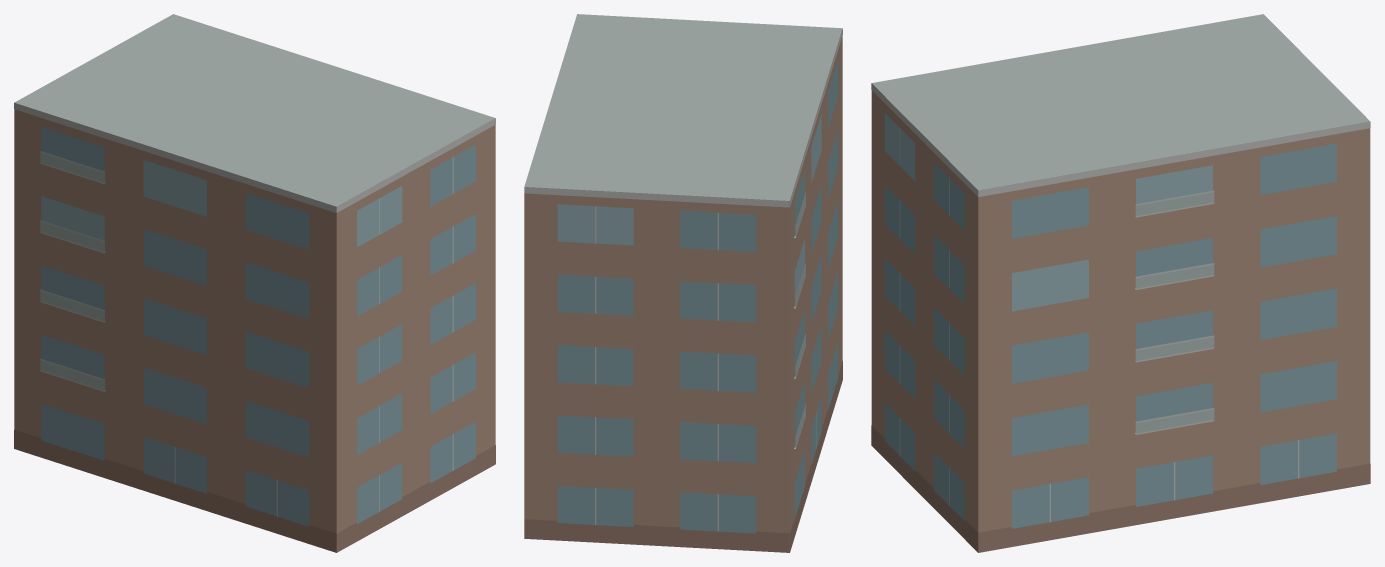
The model's file is survey-upis-32972368.glb.
3 renders of one model, left to right at view 1: azimuth 30°, elevation 25°; view 2: azimuth 150°, elevation 25°; view 3: azimuth 270°, elevation 25°, orthographic. The views are drawn at different scales.
Visible parts, largest first — view 1: survey-upis-32972368.tmp; view 2: survey-upis-32972368.tmp; view 3: survey-upis-32972368.tmp.
Boxes of the visible parts, x1,y1,x2,y2 form: survey-upis-32972368.tmp: [14, 14, 495, 552]; survey-upis-32972368.tmp: [524, 14, 842, 552]; survey-upis-32972368.tmp: [871, 14, 1370, 552].
Bounding box in the file's own units: 13.8 × 13.2 × 16.48.
